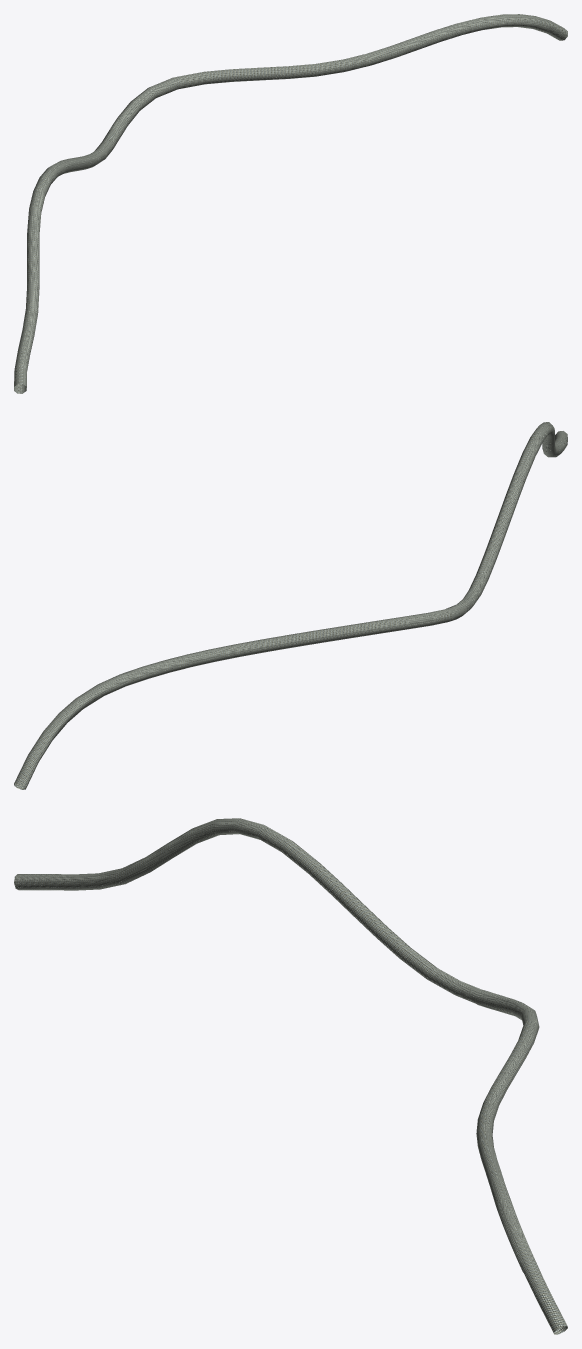
The model's file is microtubule48.fbx.
3 renders of one model, top to bottom at view 1: azimuth 30°, elevation 25°; view 2: azimuth 210°, elevation 25°; view 3: azimuth 270°, elevation 25°, orthographic. The views are drawn at different scales.
Parts seen in each view (by area): view 1: microtubule48; view 2: microtubule48; view 3: microtubule48.
Part boxes in pixels (x1,y1,x2,y2): microtubule48: [14, 14, 567, 393]; microtubule48: [14, 422, 567, 789]; microtubule48: [14, 818, 567, 1334].
Size of the model in its own units: 9893 by 1392 by 5071.
1 material, 1 textured.
